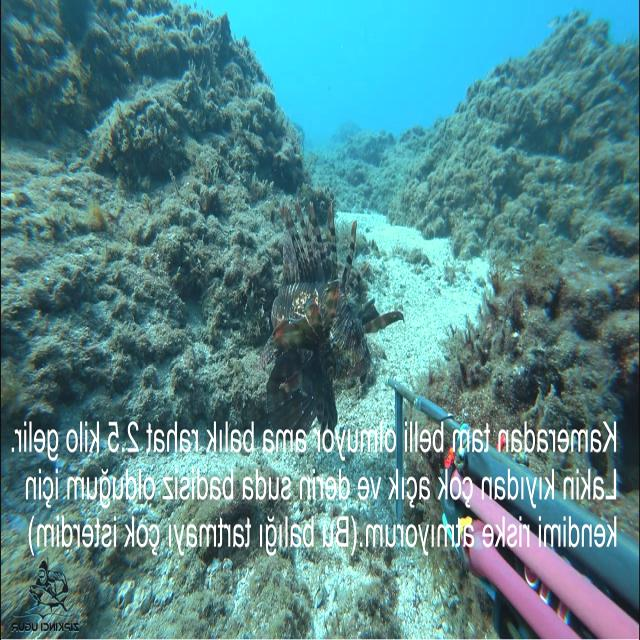Aslan Baligi: (207, 168, 429, 430)
